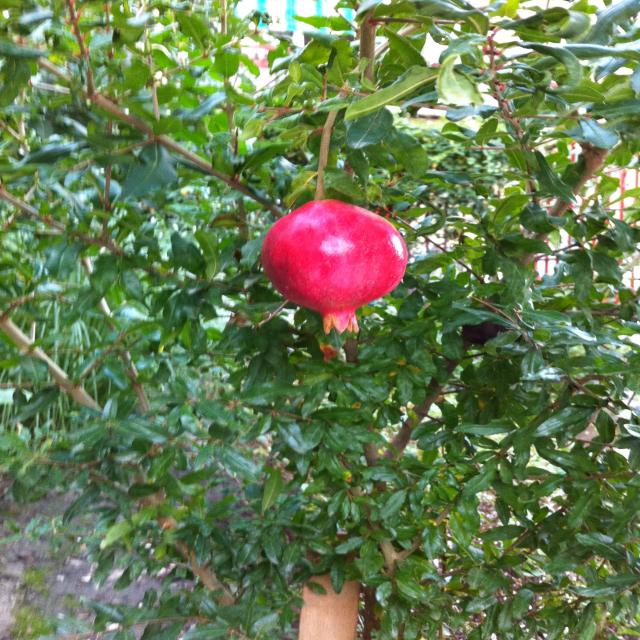apple: (262, 198, 404, 338)
